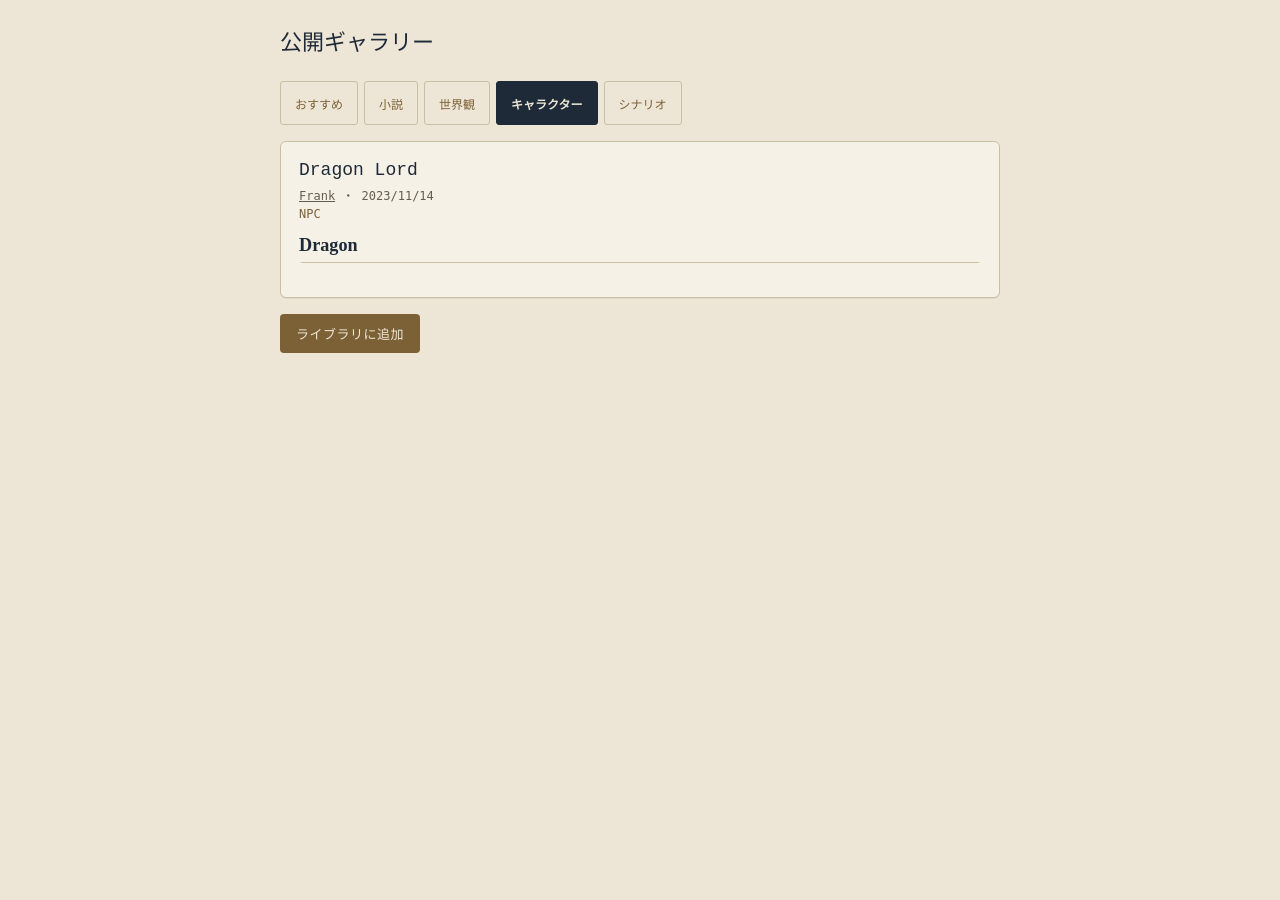
Test case: Gallery › opens a target-world picker for characters and imports into the chosen world
Expected: the heading "Dragon" is shown, [299, 233, 981, 263]
Click the button "ライブラリに追加": click(350, 333) [280, 314, 420, 353]
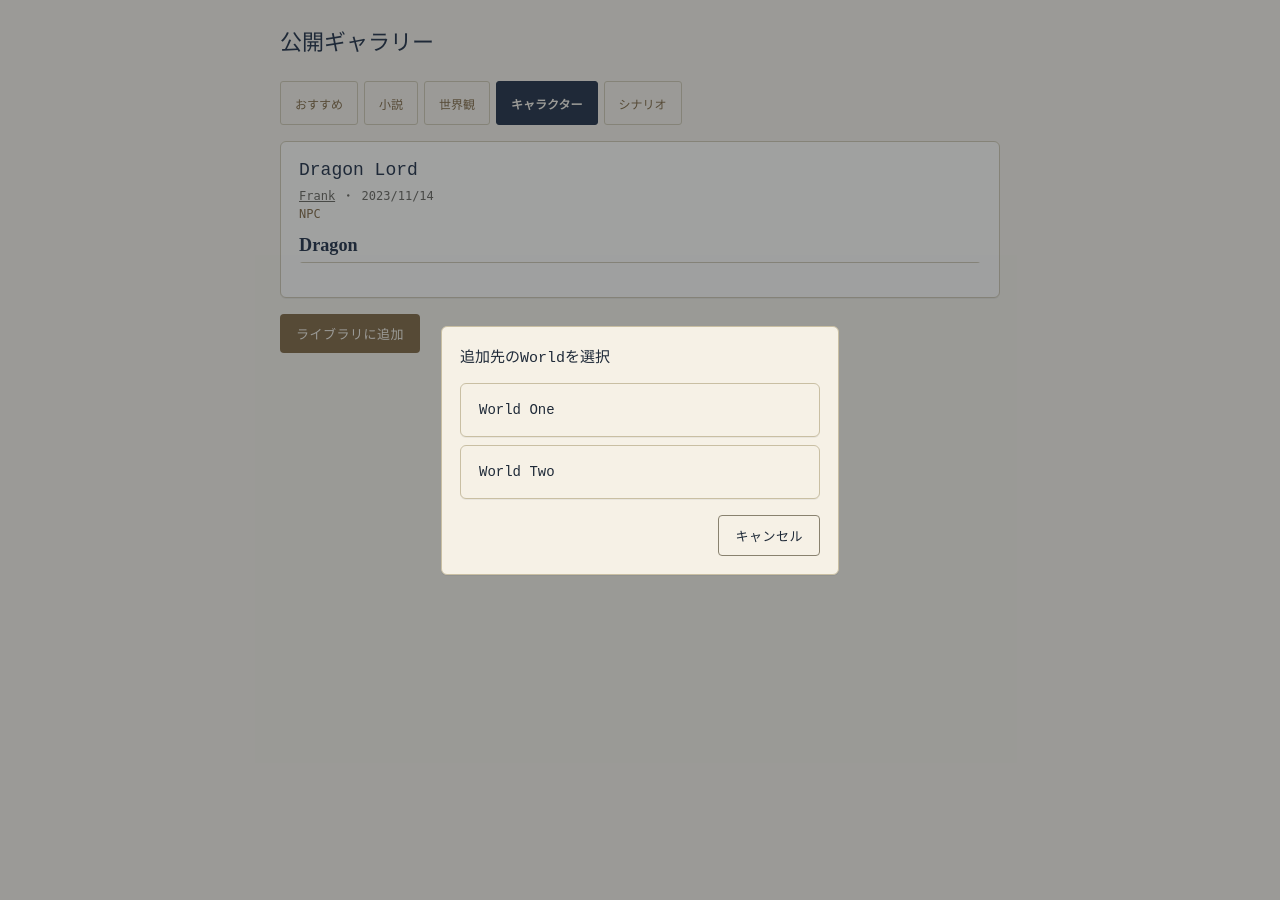
Expected: the text "World One" is shown, [479, 402, 555, 418]
Expected: the text "World Two" is shown
Click the text "World Two": click(517, 472) [479, 464, 555, 480]
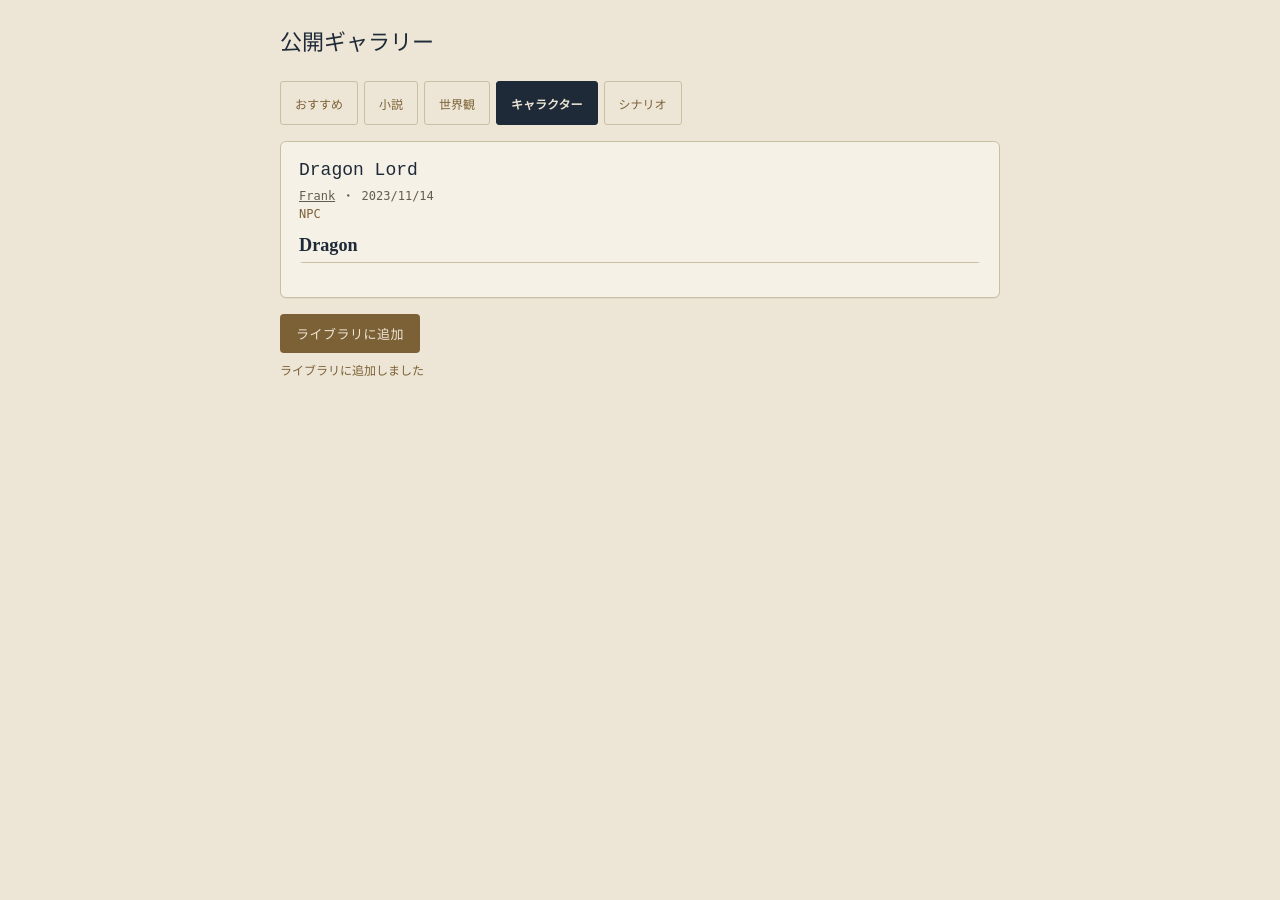
Expected: the text "ライブラリに追加しました" is shown, [280, 364, 424, 378]
